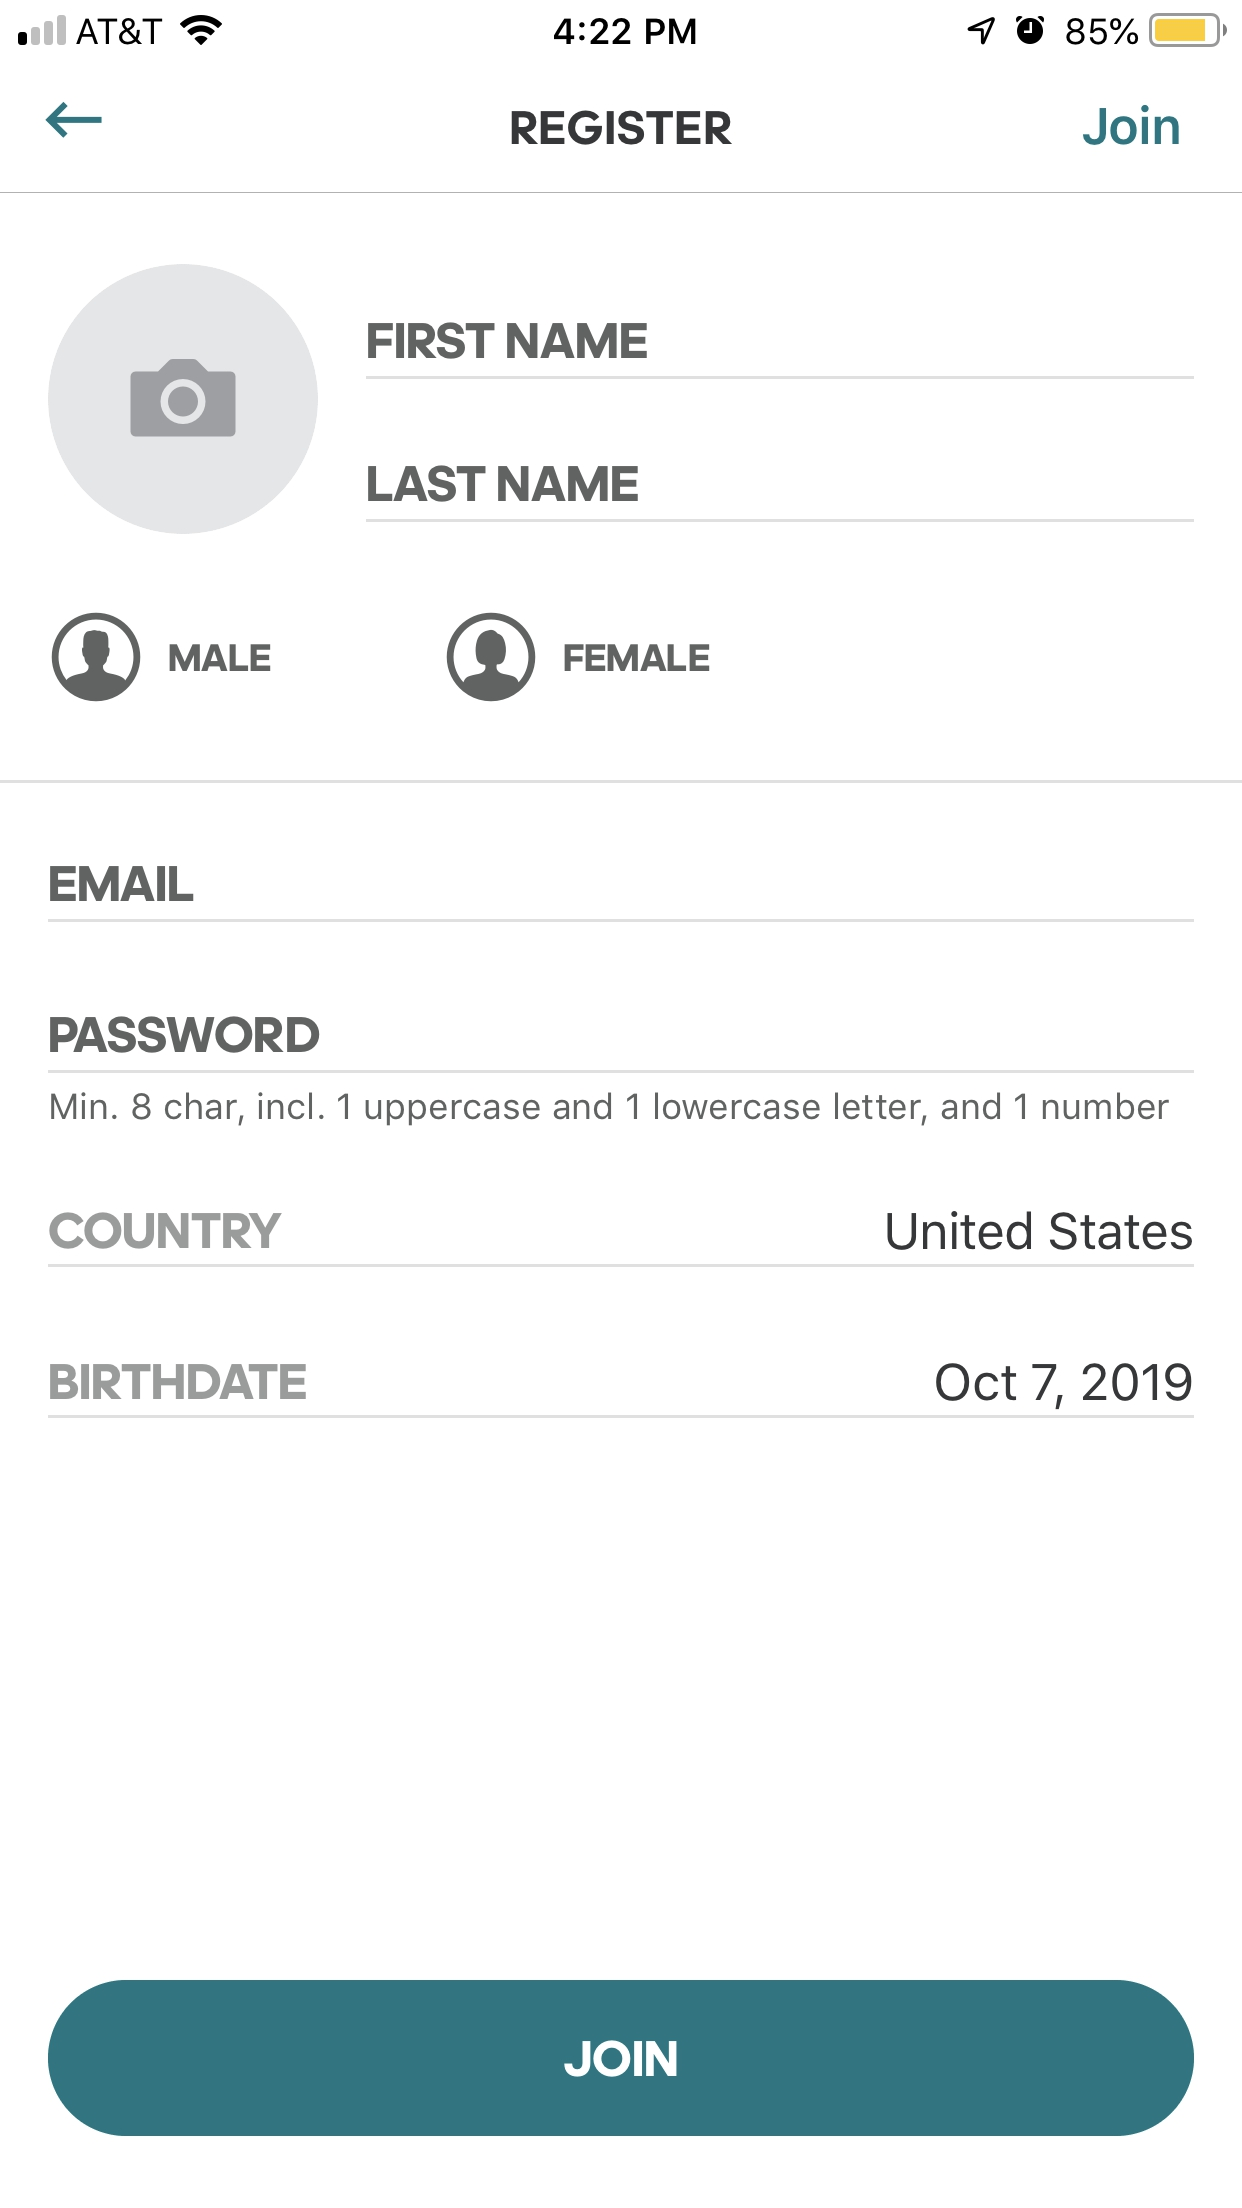EditText: (49, 864, 1195, 924), (49, 1016, 1195, 1074), (365, 321, 1195, 381), (365, 464, 1195, 523)
Icon: (49, 264, 320, 535), (52, 613, 143, 704), (447, 613, 537, 704), (45, 102, 105, 140)
Text: (52, 1090, 1171, 1127), (886, 1209, 1192, 1251), (936, 1363, 1190, 1410), (49, 1016, 321, 1055), (369, 464, 640, 503), (369, 323, 649, 361), (50, 1362, 306, 1401), (49, 1212, 284, 1250), (511, 111, 732, 147), (50, 864, 196, 902), (564, 645, 710, 673), (1081, 105, 1180, 147), (168, 645, 271, 673)
TextButton: (49, 1979, 1195, 2137)
UpperTaskBar: (2, 2, 1242, 49)
